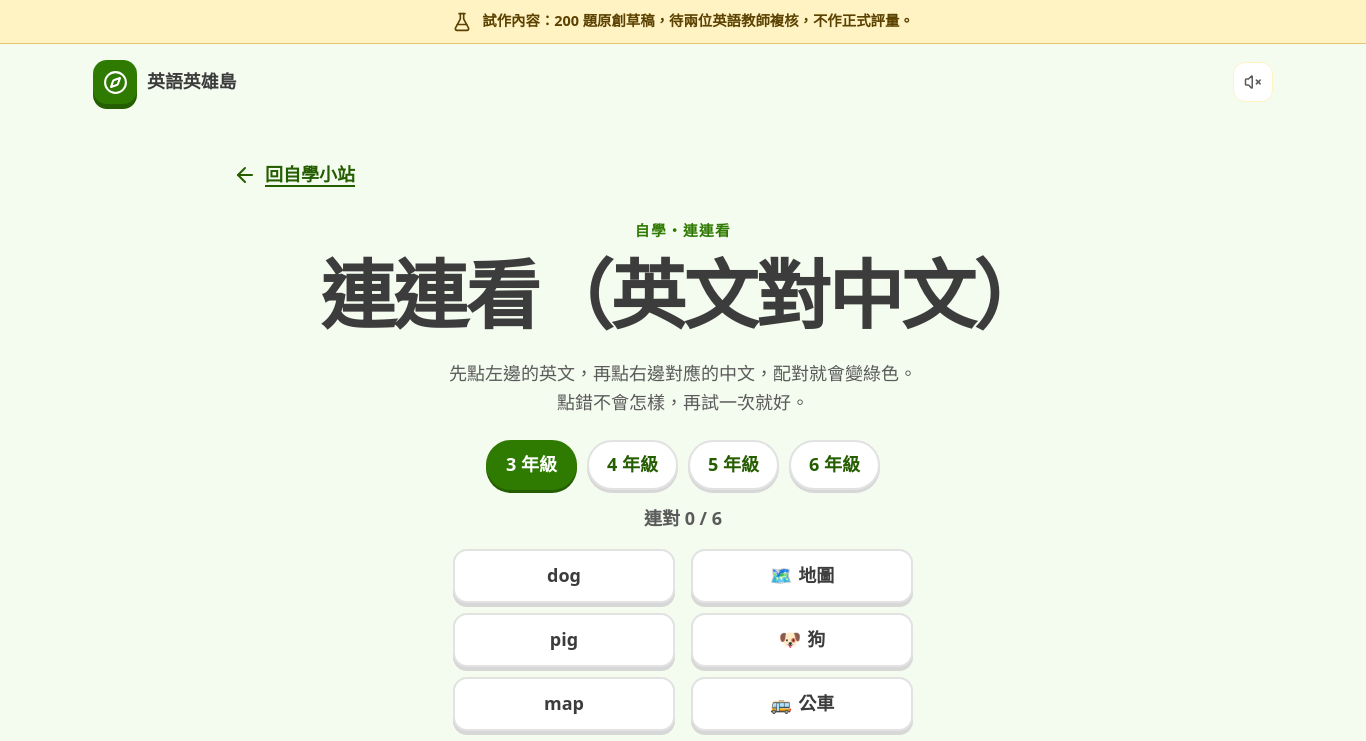
MatchPage › connects a correct english→chinese pick and advances progress
The width and height of the screenshot is (1366, 741).
Step 1. Click the button "dog" → point(564, 576), box [453,550,675,603]
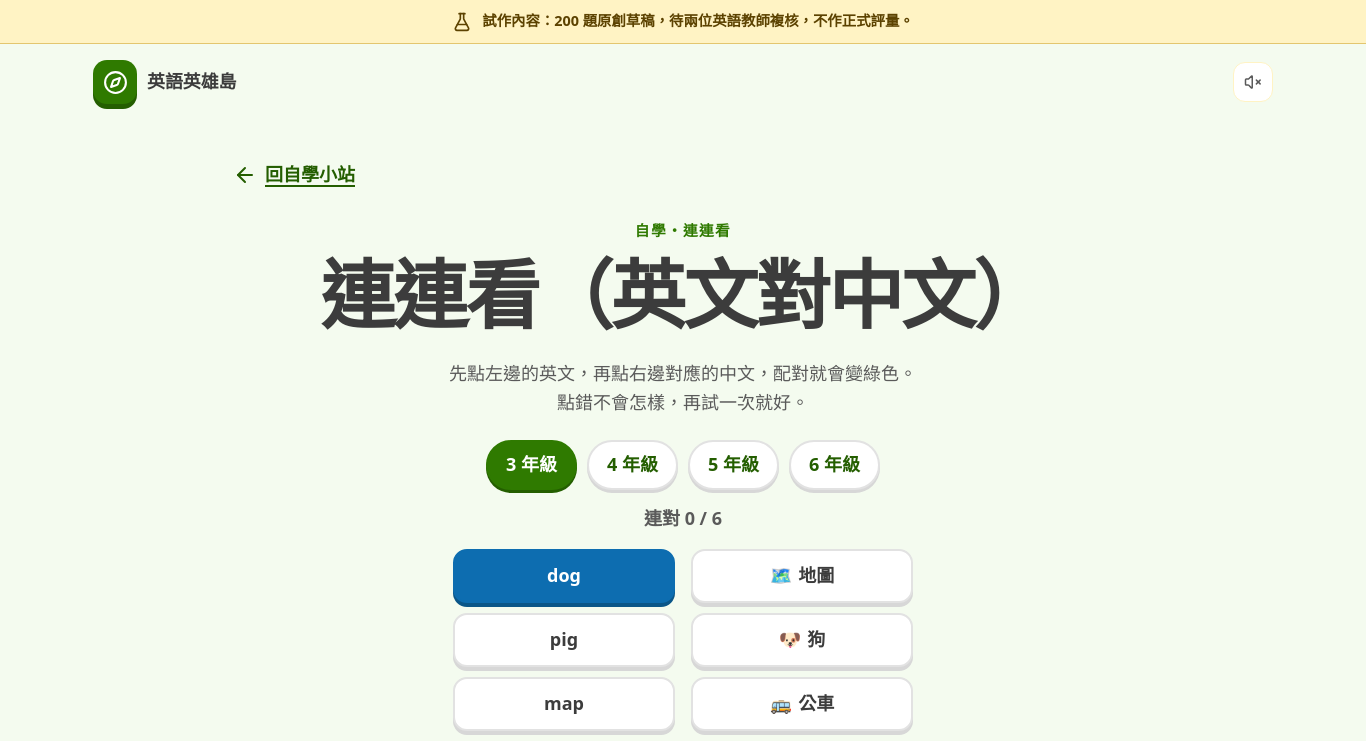
Step 2. Click the button "🐶 狗" → point(802, 640), box [691,613,913,667]
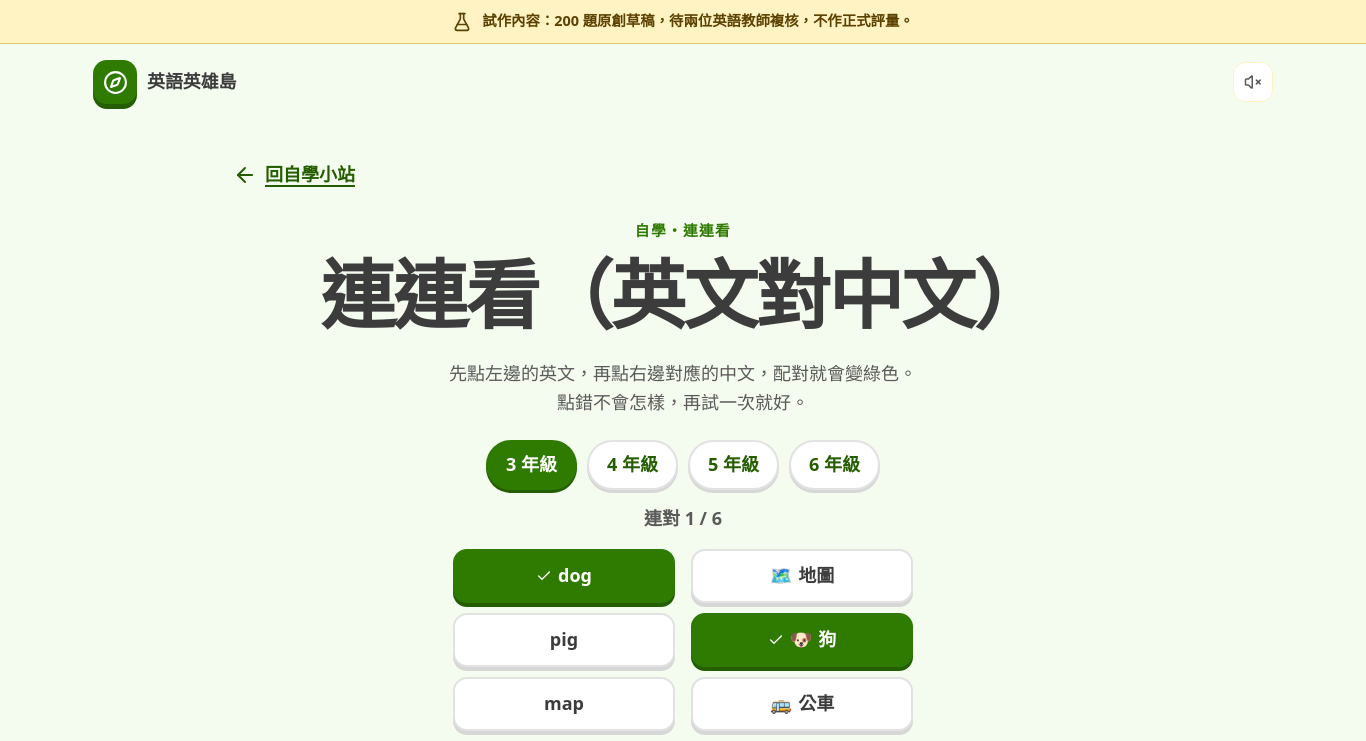
Expected: the text "連對 1 / 6" is shown, [644,506,722,530]
